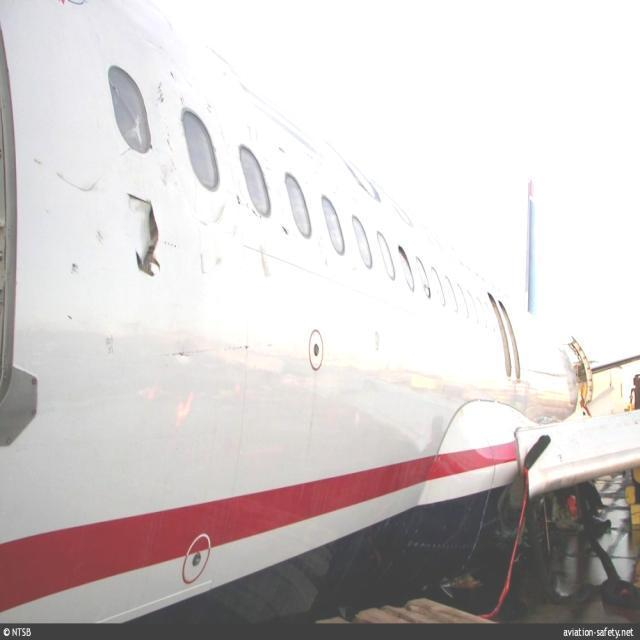crack: (120, 190, 166, 286)
